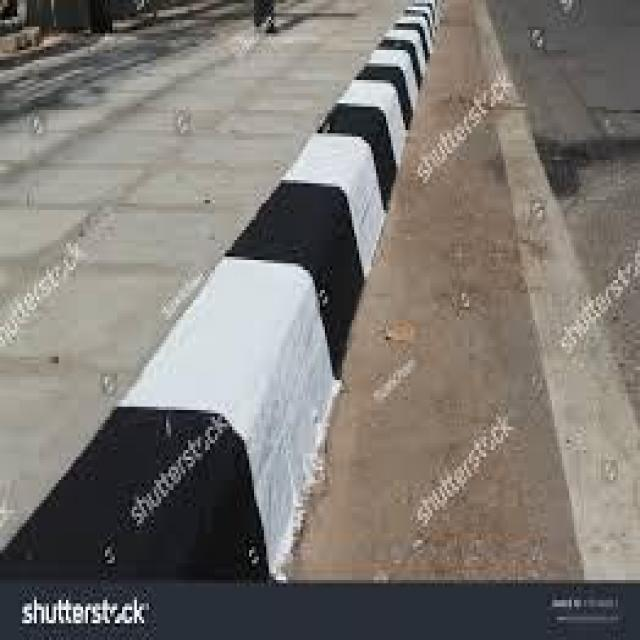curb: (4, 1, 448, 579)
